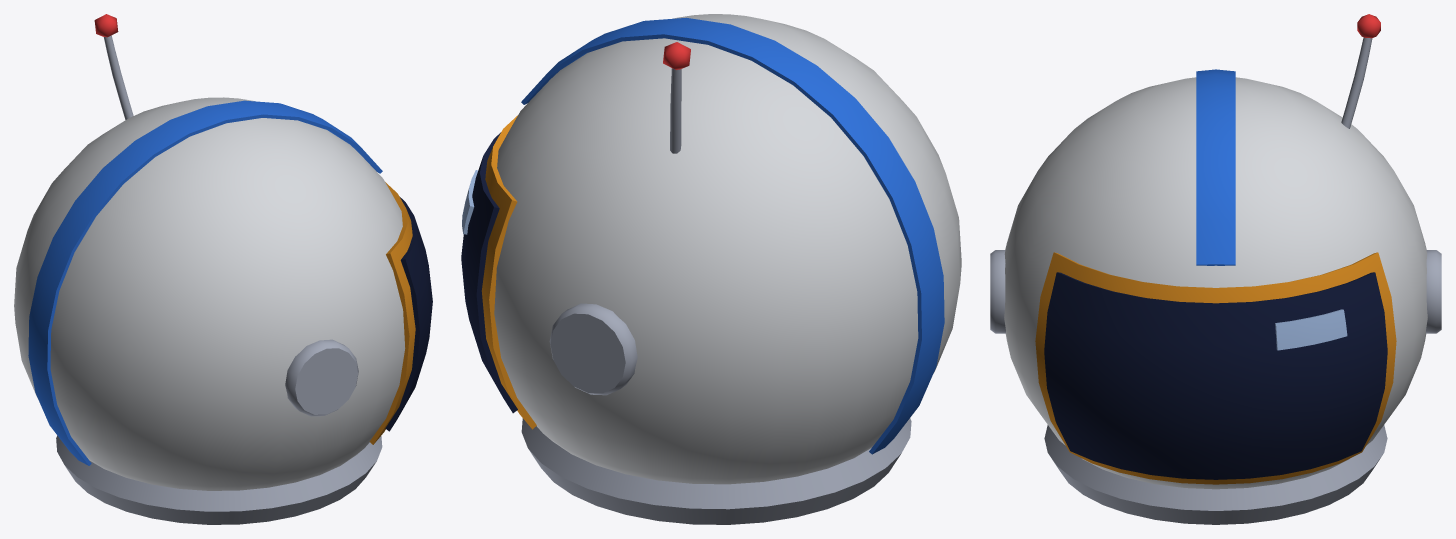
The model's file is hat_astronaut.glb.
The picture shows the model from 3 angles, left to right: view 1: azimuth 30°, elevation 25°; view 2: azimuth 150°, elevation 25°; view 3: azimuth 270°, elevation 25°; orthographic projection. The views are drawn at different scales.
Parts seen in each view (by area): view 1: hat_astronaut; view 2: hat_astronaut; view 3: hat_astronaut.
Boxes of the visible parts, box(x1,y1,x2,y2) form: hat_astronaut: box(14, 14, 432, 524); hat_astronaut: box(461, 14, 961, 524); hat_astronaut: box(990, 14, 1441, 524).
Bounding box in the file's own units: 0.7018 × 0.7349 × 0.71.
